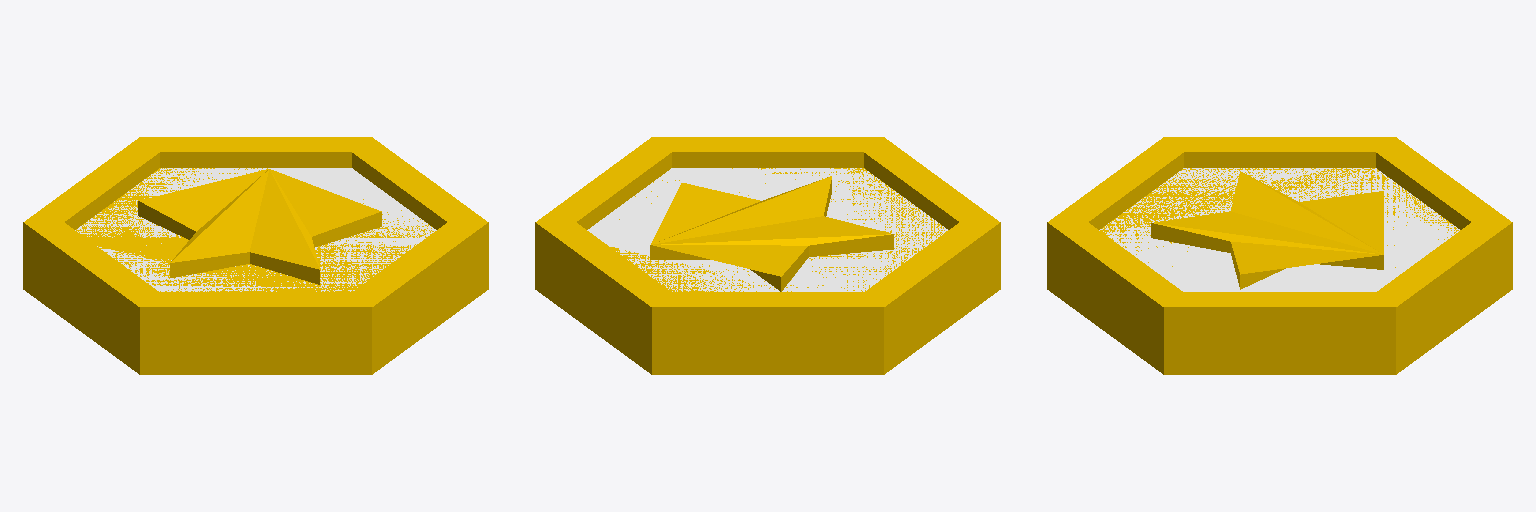
3 views of the same model, side by side, from view 1: azimuth 30°, elevation 25°; view 2: azimuth 150°, elevation 25°; view 3: azimuth 270°, elevation 25° (orthographic).
Parts seen in each view (by area): view 1: Circle_Circle.001, Cylinder; view 2: Circle_Circle.001, Cylinder; view 3: Circle_Circle.001, Cylinder.
Part boxes in pixels (left/top/right/bottom): Circle_Circle.001: left=23, top=137, right=488, bottom=374; Cylinder: left=138, top=169, right=381, bottom=284; Circle_Circle.001: left=535, top=137, right=1000, bottom=374; Cylinder: left=650, top=176, right=893, bottom=291; Circle_Circle.001: left=1047, top=137, right=1512, bottom=374; Cylinder: left=1151, top=171, right=1383, bottom=289.
Bounding box in the file's own units: 3.13 × 0.5772 × 3.61.
1 materials, 1 textured.